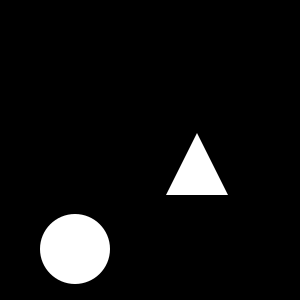rectangle: (40, 214, 110, 284)
triangle: (166, 133, 228, 195)
